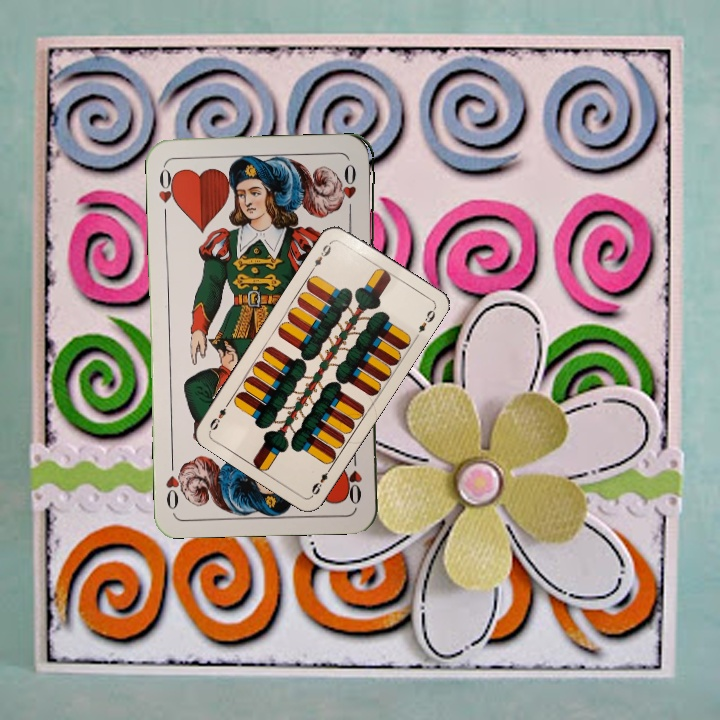E9: (307, 237, 335, 274), (307, 462, 335, 497)
HO: (154, 163, 180, 222), (346, 448, 365, 507)
